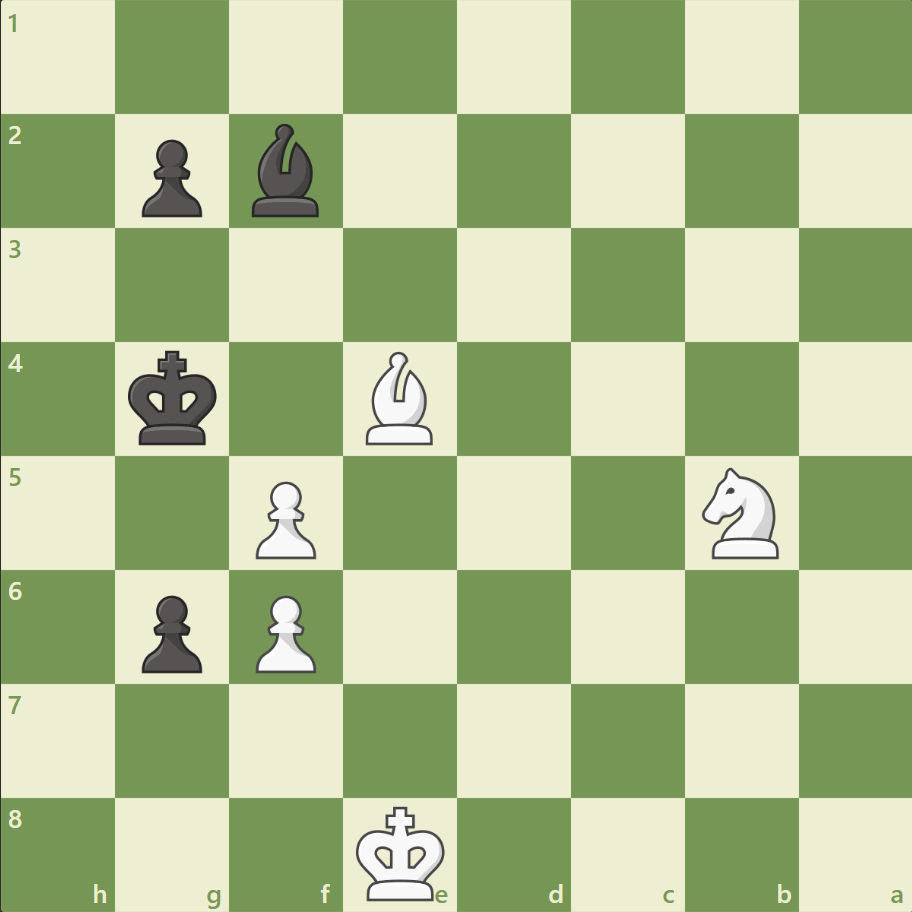B: (358, 347, 442, 449)
K: (351, 798, 451, 906)
N: (692, 461, 789, 564)
P: (247, 586, 322, 677), (247, 473, 322, 564)
b: (244, 120, 328, 222)
k: (124, 344, 224, 452)
p: (133, 586, 208, 677), (133, 132, 208, 223)
